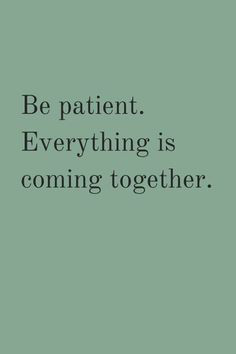latin: (19, 91, 212, 197)
